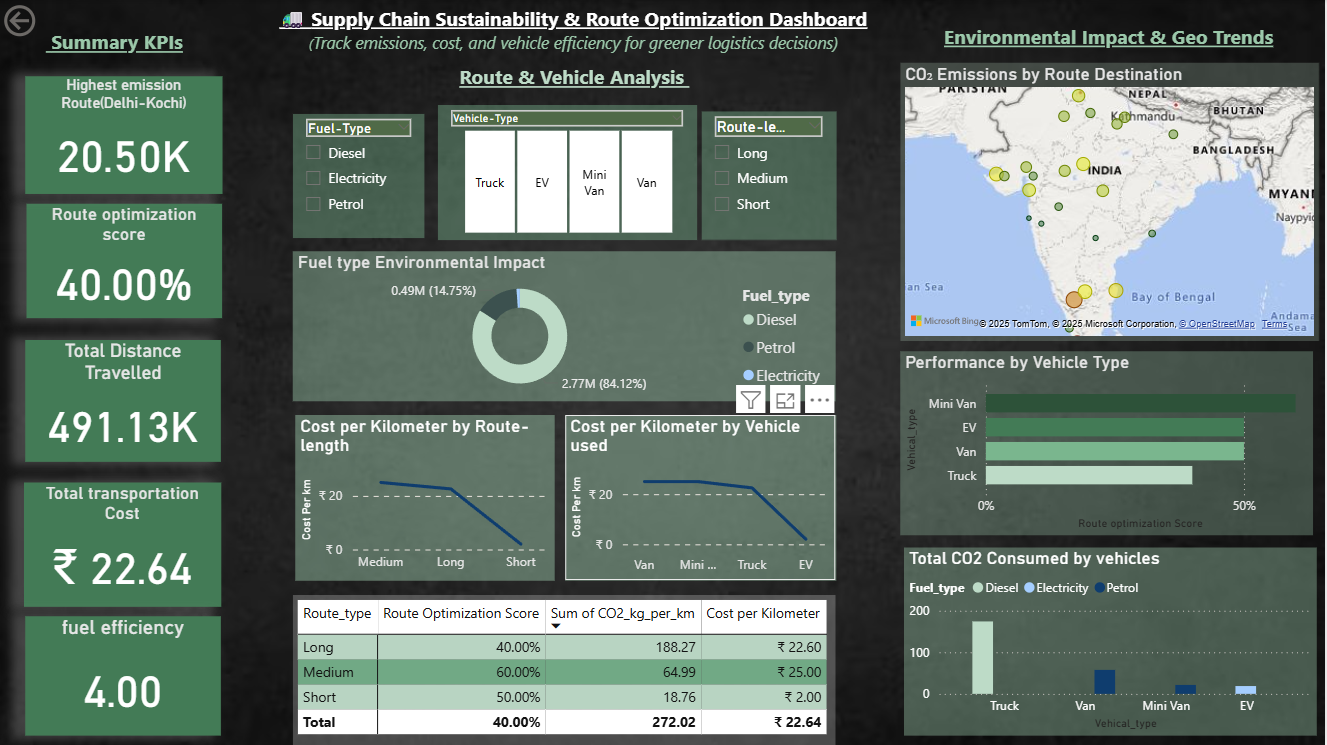

The dashboard page shown, as its layout file describes it:
{"tool":"powerbi","page":{"name":"Page 1","canvas":[1280,720],"ordinal":0},"visuals":[{"type":"card","title":"Total Distance Travelled","fields":{"Values":["Sum(in.Distance_km)"]},"box":[25,328.8,188.8,117.5],"z":0},{"type":"actionButton","box":[0,0,100,40],"z":1000},{"type":"slicer","fields":{"Values":["in.Fuel_type"]},"box":[283.8,110,127.5,120],"z":2000},{"type":"slicer","fields":{"Values":["in.Vehical_type "]},"box":[423.8,101.2,250,130],"z":3000},{"type":"slicer","fields":{"Values":["in.Route_type"]},"box":[677.5,107.5,130,123.8],"z":4000},{"type":"card","title":"Total transportation Cost","fields":{"Values":["in.Cost per Kilometer"]},"box":[23.8,466.2,190,120],"z":5000},{"type":"card","title":"fuel efficiency","fields":{"Values":["in.Fuel Efficiency (km/L)"]},"box":[25,595,188.8,115],"z":6000},{"type":"card","title":"Route optimization score ","fields":{"Values":["in.Route Optimization Score 1"]},"box":[26.2,196.2,188.8,110],"z":7000},{"type":"clusteredBarChart","title":"Performance by Vehicle Type","fields":{"Category":["in.Vehical_type "],"Y":["in.Route Optimization Score 1"]},"box":[870,338.8,398.8,177.5],"z":8000},{"type":"pivotTable","fields":{"Rows":["in.Route_type"],"Values":["in.Route Optimization Score 1","Sum(in.CO2_kg_per_km)","in.Cost per Kilometer"]},"box":[283.8,573.8,523.8,146.2],"z":9000},{"type":"donutChart","title":"Fuel type Environmental Impact","fields":{"Y":["Sum(in.Total_Monthly_CO2_kg)"],"Category":["in.Fuel_type"]},"box":[283.8,242.5,523.8,145],"z":10000},{"type":"clusteredColumnChart","title":"Total CO2 Consumed by vehicles","fields":{"Category":["in.Vehical_type "],"Y":["Sum(in.CO2_kg_per_km)"],"Series":["in.Fuel_type"]},"box":[873.8,528.8,398.8,181.2],"z":11000},{"type":"map","title":"CO₂ Emissions by Route Destination","fields":{"Size":["Sum(in.Total_Monthly_CO2_kg)"],"Category":["in.Destination"]},"box":[870,60,403.8,268.8],"z":12000},{"type":"lineChart","title":"Cost per Kilometer by Vehicle used","fields":{"Y":["in.Cost per Kilometer"],"Category":["in.Vehical_type "]},"box":[546.2,400,261.2,160],"z":13000},{"type":"lineChart","title":"Cost per Kilometer by Route- length","fields":{"Y":["in.Cost per Kilometer"],"Category":["in.Route_type"]},"box":[286.2,400,250,160],"z":14000},{"type":"card","title":"Highest emission Route(Delhi-Kochi)","fields":{"Values":["in.Highest_Emission_Route"]},"box":[25,73.8,190,113.8],"z":15000},{"type":"textbox","box":[16.2,22.5,191.2,35],"z":16000},{"type":"textbox","box":[302.5,56.2,505,51.2],"z":17000},{"type":"textbox","box":[873.8,0,395,60],"z":18000},{"type":"textbox","box":[207.5,0,693.8,56.2],"z":19000}]}

Visuals, with their boxes in screenshot pixels (x1, y1, x2, y2), scaled from the page's 1280x720 canvas onto the 1327x745 screenshot:
"Total Distance Travelled" card: {"left": 26, "top": 340, "right": 222, "bottom": 462}
actionButton: {"left": 0, "top": 0, "right": 104, "bottom": 41}
slicer - in.Fuel_type: {"left": 294, "top": 114, "right": 426, "bottom": 238}
slicer - in.Vehical_type : {"left": 439, "top": 105, "right": 699, "bottom": 239}
slicer - in.Route_type: {"left": 702, "top": 111, "right": 837, "bottom": 239}
"Total transportation Cost" card: {"left": 25, "top": 482, "right": 222, "bottom": 607}
"fuel efficiency" card: {"left": 26, "top": 616, "right": 222, "bottom": 735}
"Route optimization score " card: {"left": 27, "top": 203, "right": 223, "bottom": 317}
"Performance by Vehicle Type" clusteredBarChart: {"left": 902, "top": 351, "right": 1315, "bottom": 534}
pivotTable - in.Route_type x in.Route Optimization Score 1: {"left": 294, "top": 594, "right": 837, "bottom": 744}
"Fuel type Environmental Impact" donutChart: {"left": 294, "top": 251, "right": 837, "bottom": 401}
"Total CO2 Consumed by vehicles" clusteredColumnChart: {"left": 906, "top": 547, "right": 1319, "bottom": 735}
"CO₂ Emissions by Route Destination" map: {"left": 902, "top": 62, "right": 1321, "bottom": 340}
"Cost per Kilometer by Vehicle used" lineChart: {"left": 566, "top": 414, "right": 837, "bottom": 579}
"Cost per Kilometer by Route- length" lineChart: {"left": 297, "top": 414, "right": 556, "bottom": 579}
"Highest emission Route(Delhi-Kochi)" card: {"left": 26, "top": 76, "right": 223, "bottom": 194}
textbox: {"left": 17, "top": 23, "right": 215, "bottom": 59}
textbox: {"left": 314, "top": 58, "right": 837, "bottom": 111}
textbox: {"left": 906, "top": 0, "right": 1315, "bottom": 62}
textbox: {"left": 215, "top": 0, "right": 934, "bottom": 58}
